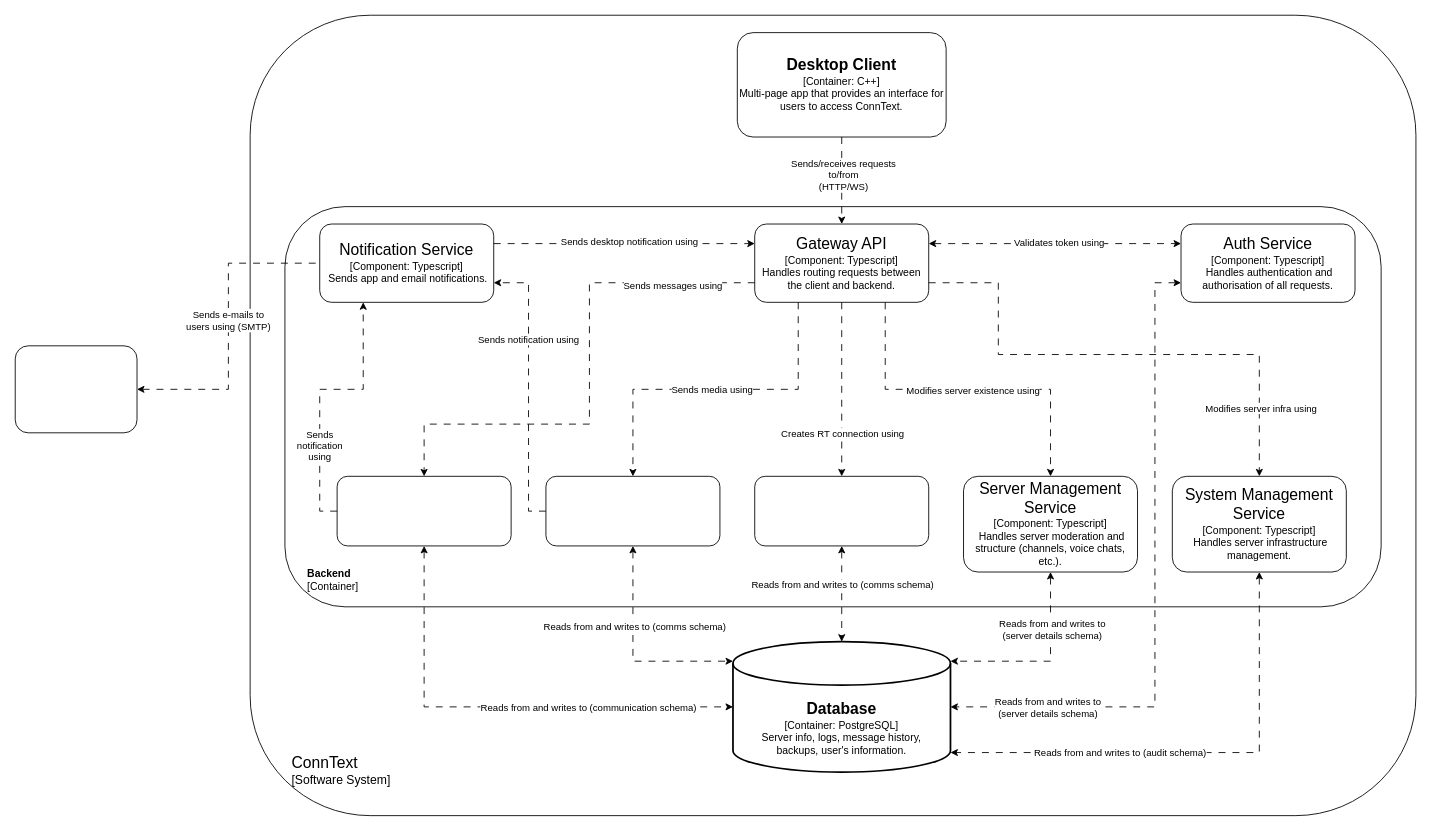
The diagram is 1431 pixels wide and 831 high, and some of its shapes have lost their labels. Each missing label, with the centre of its shape:
"Email Service [External System] Email service provider" belongs at (75,389).
"Media Service [Component: Typescript] Handles all images and photos." belongs at (632,510).
"Messaging Service [Component: Typescript] Handles all text messages." belongs at (423,510).
"RTC Service [Component: Typescript] Handles all real-time communication." belongs at (841,510).
